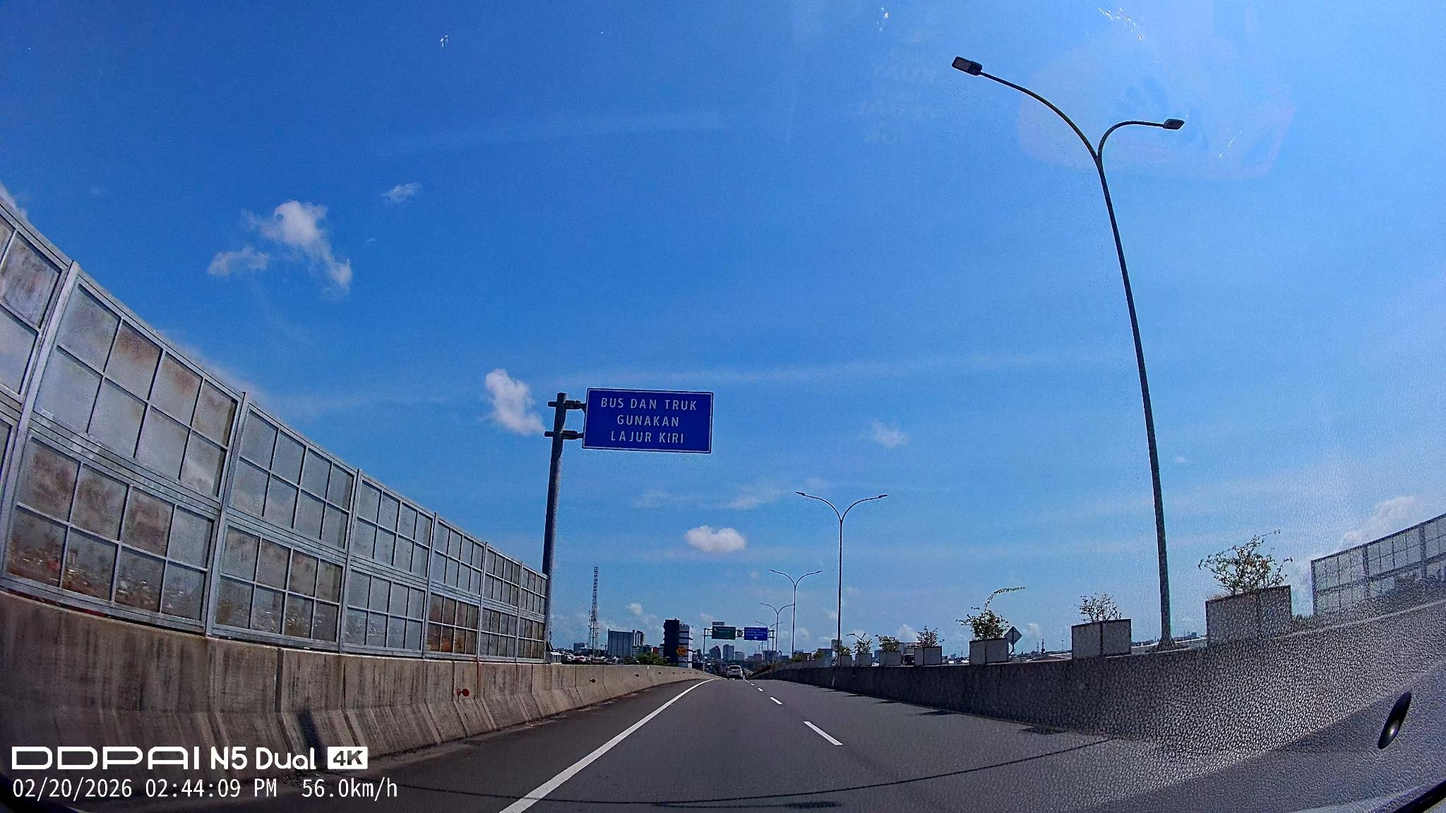rambu_teks: (583, 388, 715, 454)
